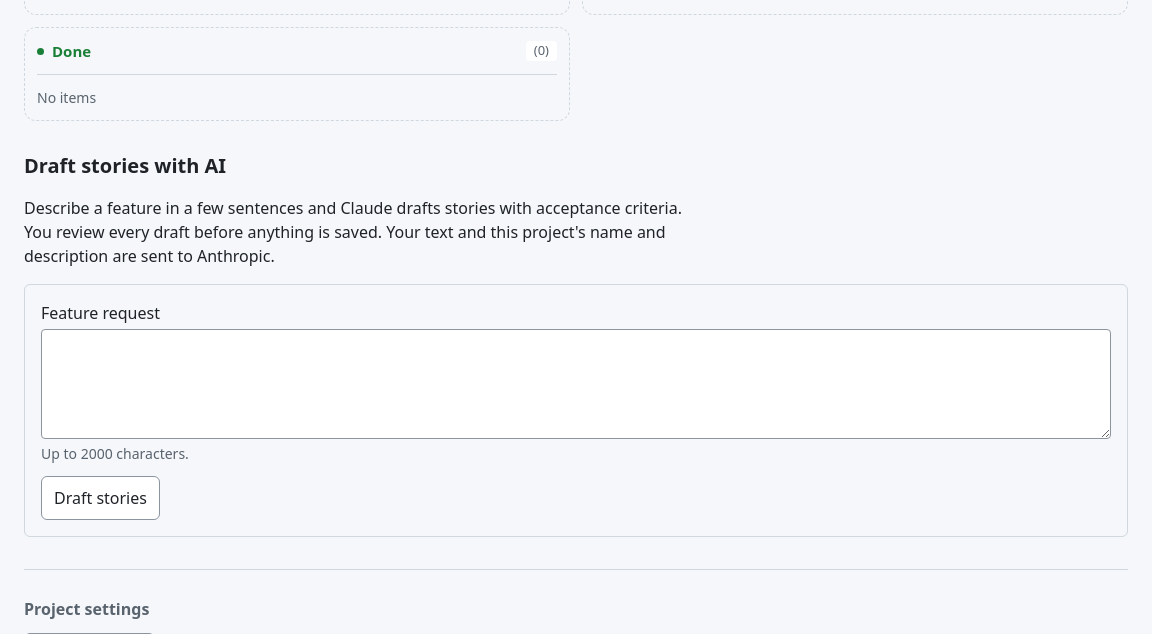
Test: AI story drafter › can cancel a request that is still running
The width and height of the screenshot is (1152, 634).
(page scrolled)
In the text box labelled "Feature request": (576, 384) [41, 329, 1111, 439], type "Archive projects"
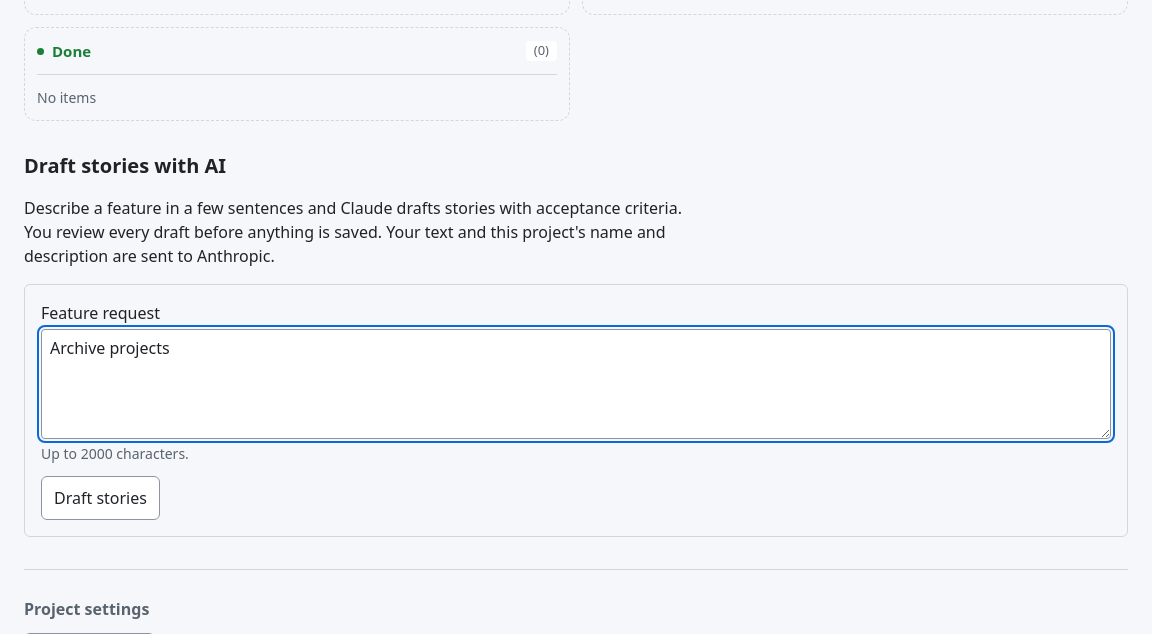
Click the button "Draft stories": (100, 498) [41, 476, 160, 520]
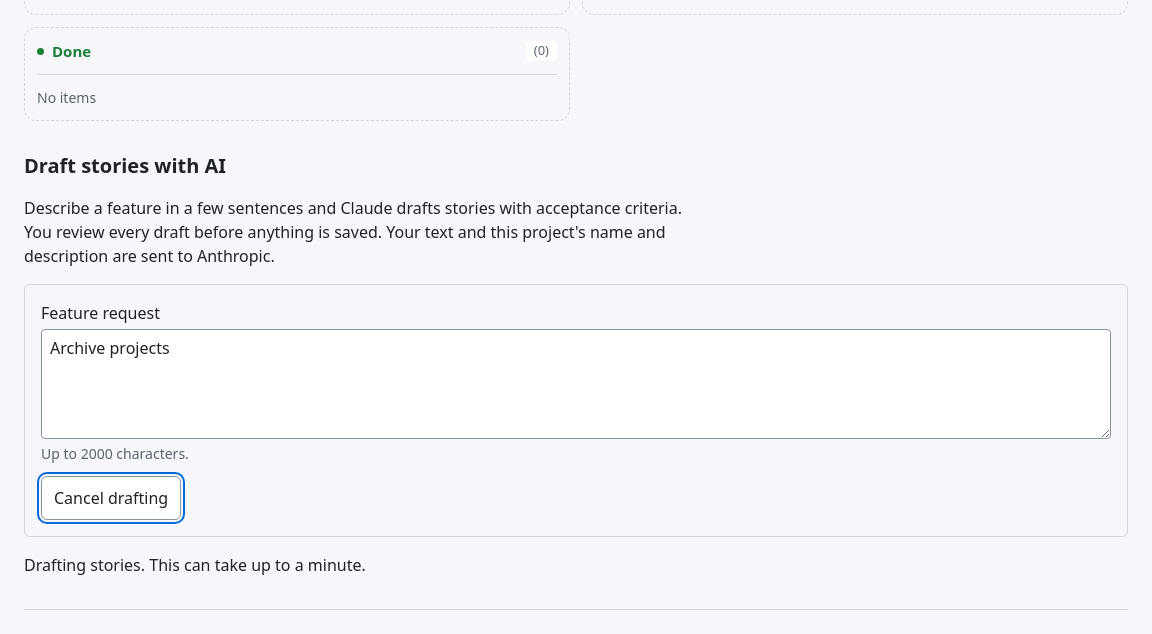
Expected: the message reads "Drafting stories. This can take up to a minute.", [24, 554, 366, 576]
Click the button "Cancel drafting": (111, 498) [41, 476, 181, 520]
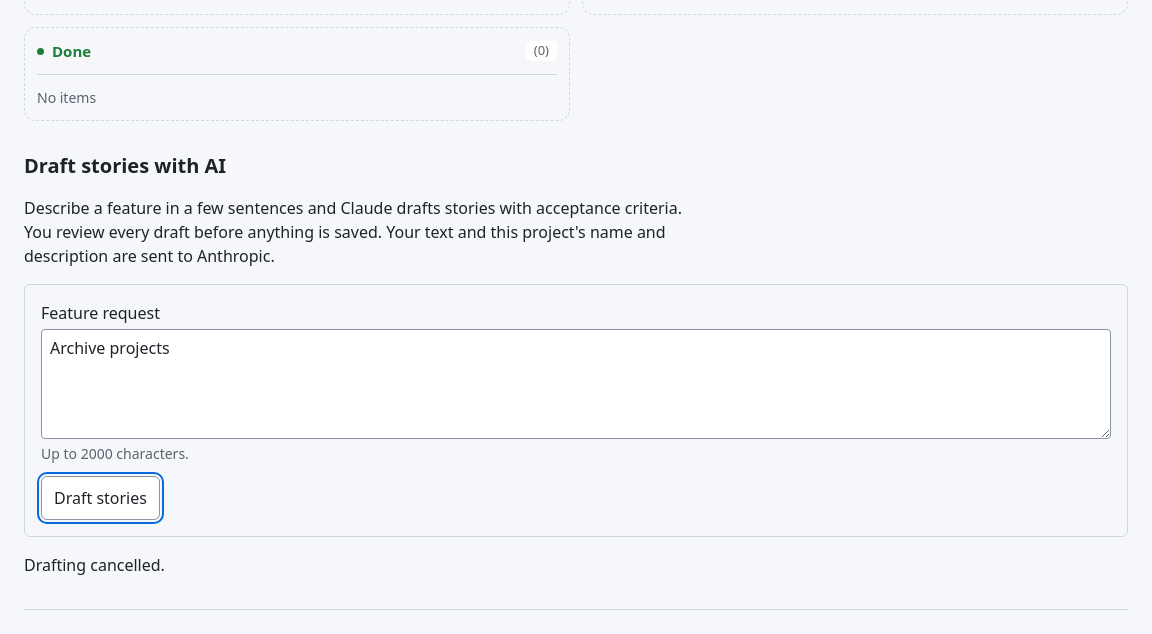
Expected: the message reads "Drafting cancelled.", [24, 554, 165, 576]
